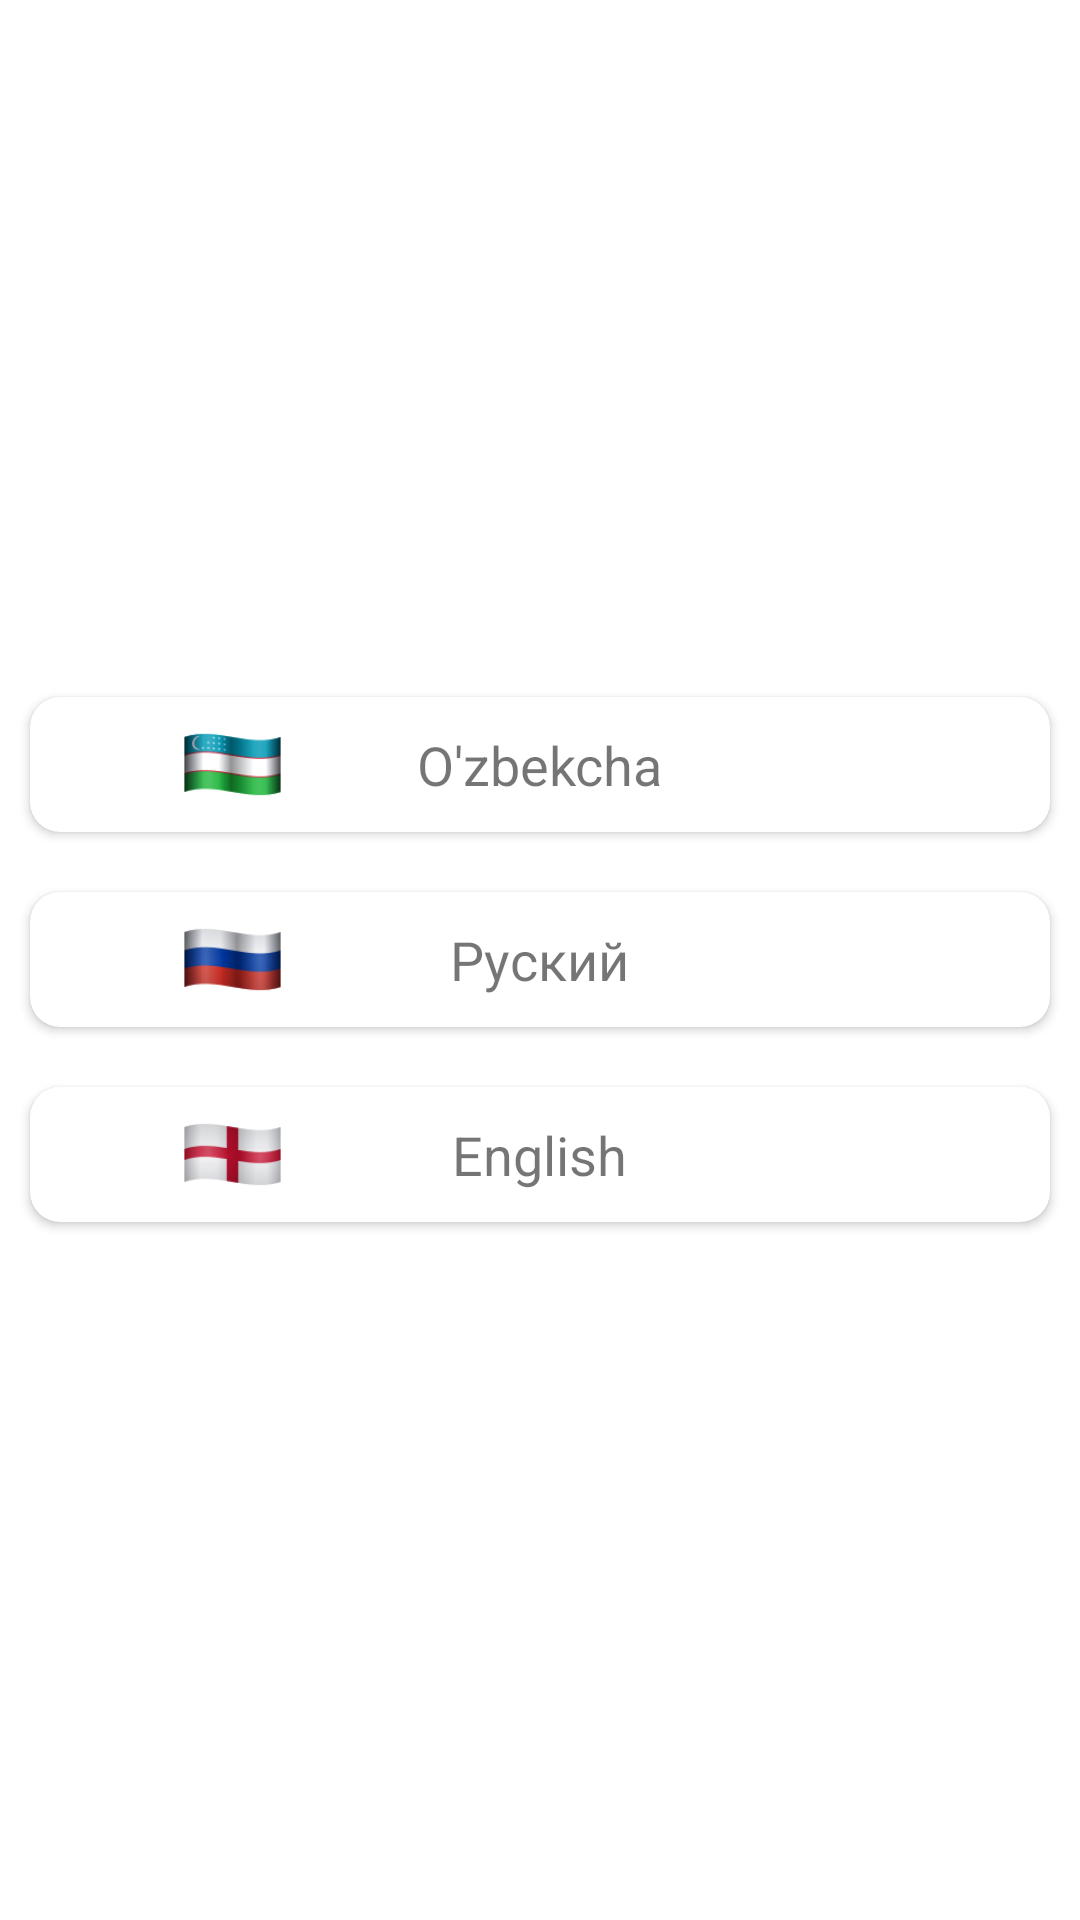

Named icons in this screenshot (1080 × 1920) and their bounding boxes, BBox(x1, y1, x2, y2):
england flag: BBox(184, 1124, 281, 1185)
russian flag: BBox(184, 929, 281, 991)
uzbekistan flag: BBox(184, 733, 281, 796)
